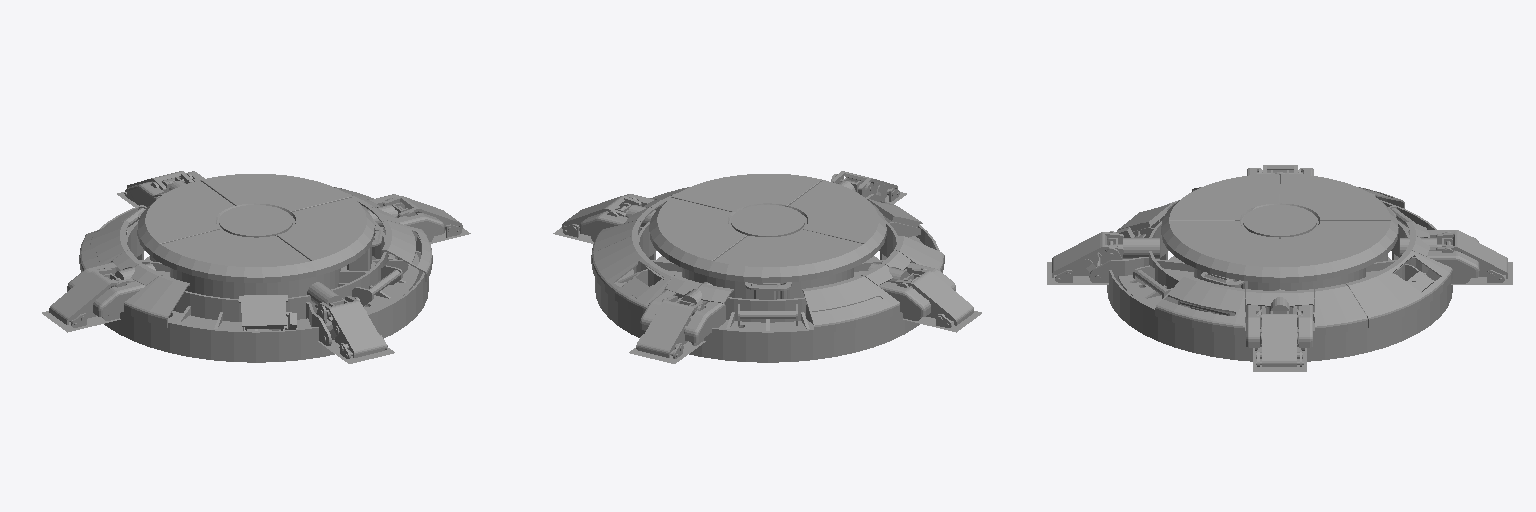
Rendered from portalbutton.obj.
3 renders of one model, left to right at view 1: azimuth 30°, elevation 25°; view 2: azimuth 150°, elevation 25°; view 3: azimuth 270°, elevation 25°, orthographic.
Visible parts, largest first — view 1: Stm_button01, Stm_button02; view 2: Stm_button01, Stm_button02; view 3: Stm_button01, Stm_button02.
Part boxes in pixels (bbox=[...]): Stm_button01: bbox=[42, 171, 470, 363]; Stm_button02: bbox=[137, 174, 383, 282]; Stm_button01: bbox=[553, 171, 981, 363]; Stm_button02: bbox=[649, 174, 886, 299]; Stm_button01: bbox=[1047, 165, 1512, 371]; Stm_button02: bbox=[1161, 174, 1398, 297].
Size of the model in its own units: 125 by 21 by 125.